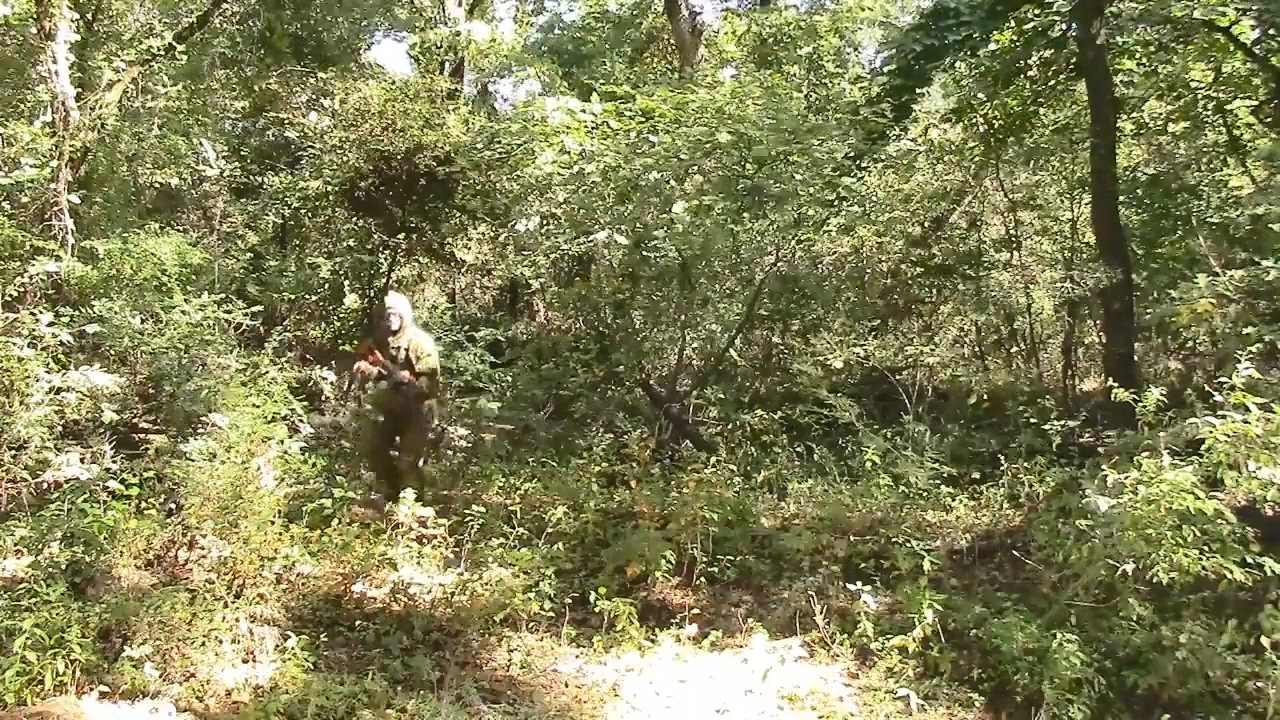person: (333, 271, 456, 533)
